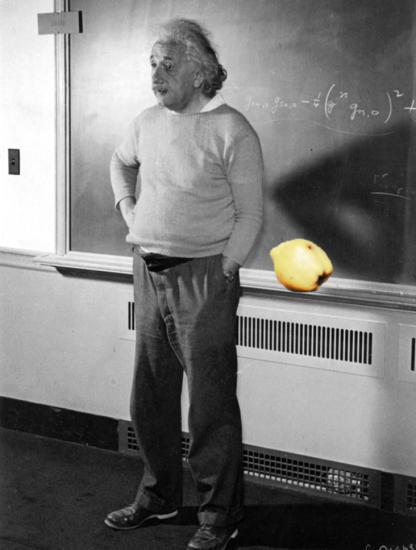Quince: (268, 233, 332, 297)
